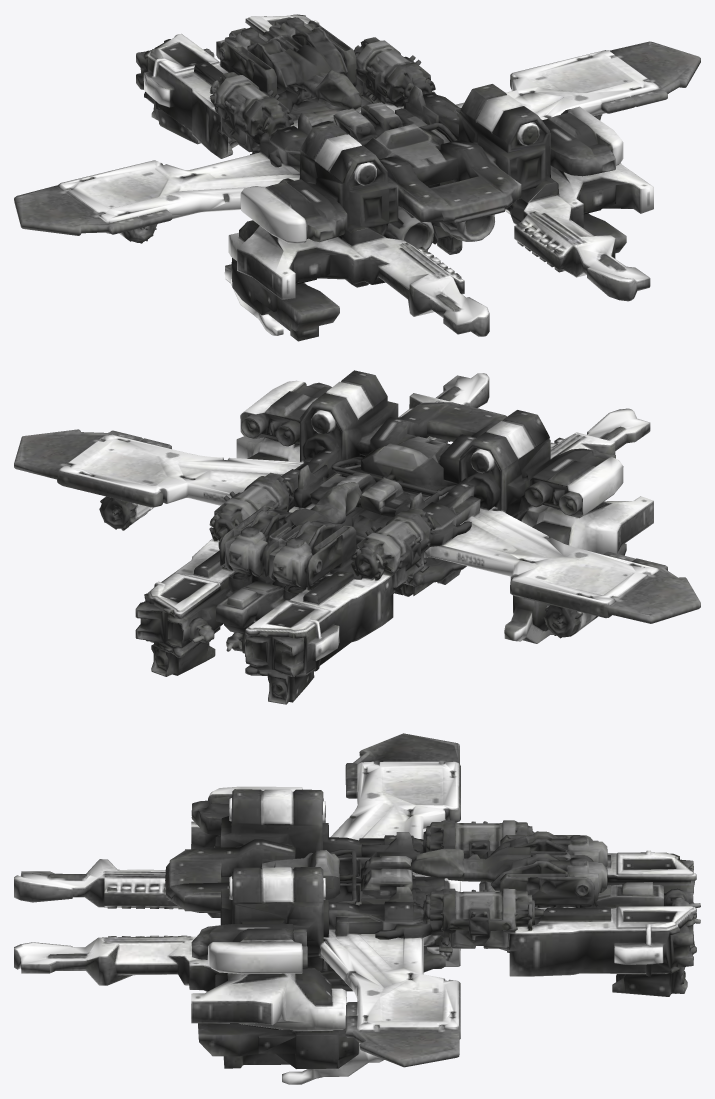
File: interceptor.glb
3 renders of one model, top to bottom at view 1: azimuth 30°, elevation 25°; view 2: azimuth 150°, elevation 25°; view 3: azimuth 270°, elevation 25°, orthographic.
Visible parts, largest first — view 1: Object_2; view 2: Object_2; view 3: Object_2.
Part boxes in pixels (<box>): Object_2: <box>14,14,700,341</box>; Object_2: <box>14,370,700,704</box>; Object_2: <box>14,733,700,1084</box>.
Size of the model in its own units: 200 by 51.31 by 177.
1 material, 1 textured.
